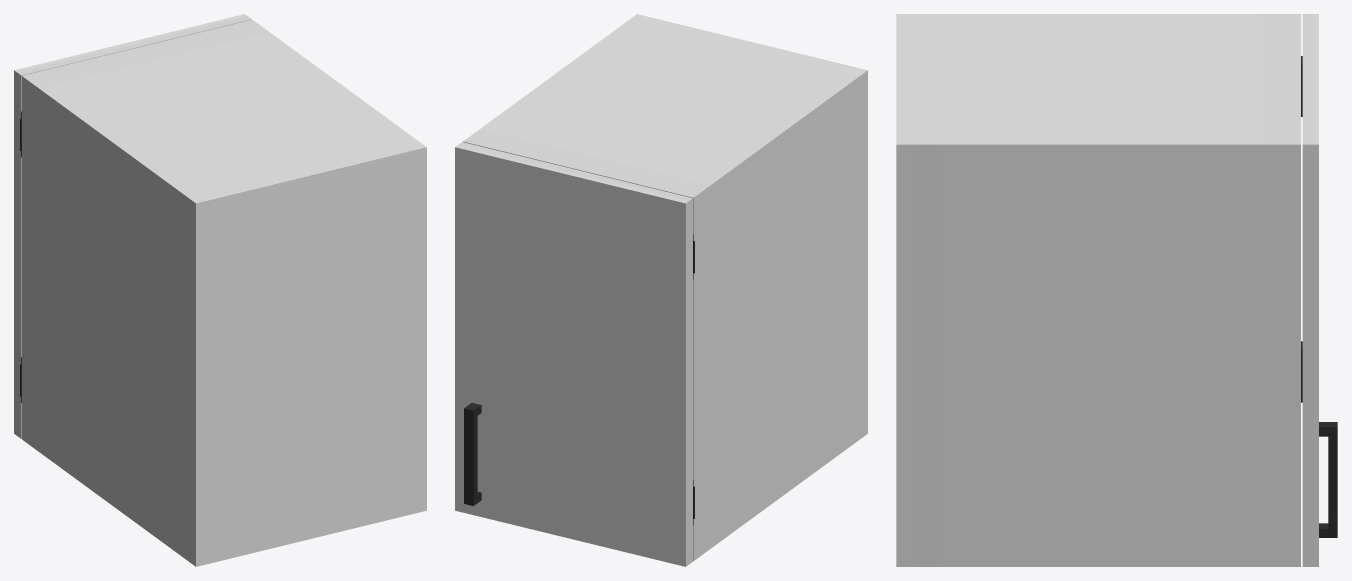
Rendered from CabinetE05.glb.
The picture shows the model from 3 angles, left to right: view 1: azimuth 30°, elevation 25°; view 2: azimuth 150°, elevation 25°; view 3: azimuth 270°, elevation 25°; orthographic projection. The views are drawn at different scales.
Visible parts, largest first — view 1: CabinetE05_model, CabinetE05Door; view 2: CabinetE05_model, CabinetE05Door; view 3: CabinetE05_model, CabinetE05Door.
Boxes of the visible parts, x1,y1,x2,y2 form: CabinetE05_model: [20, 19, 426, 566]; CabinetE05Door: [14, 14, 251, 438]; CabinetE05_model: [463, 14, 867, 561]; CabinetE05Door: [455, 142, 694, 566]; CabinetE05_model: [896, 14, 1301, 566]; CabinetE05Door: [1302, 14, 1337, 566].
Bounding box in the file's own units: 0.9256 × 1.39 × 1.31.
Materials: 1 (1 with a texture image).
